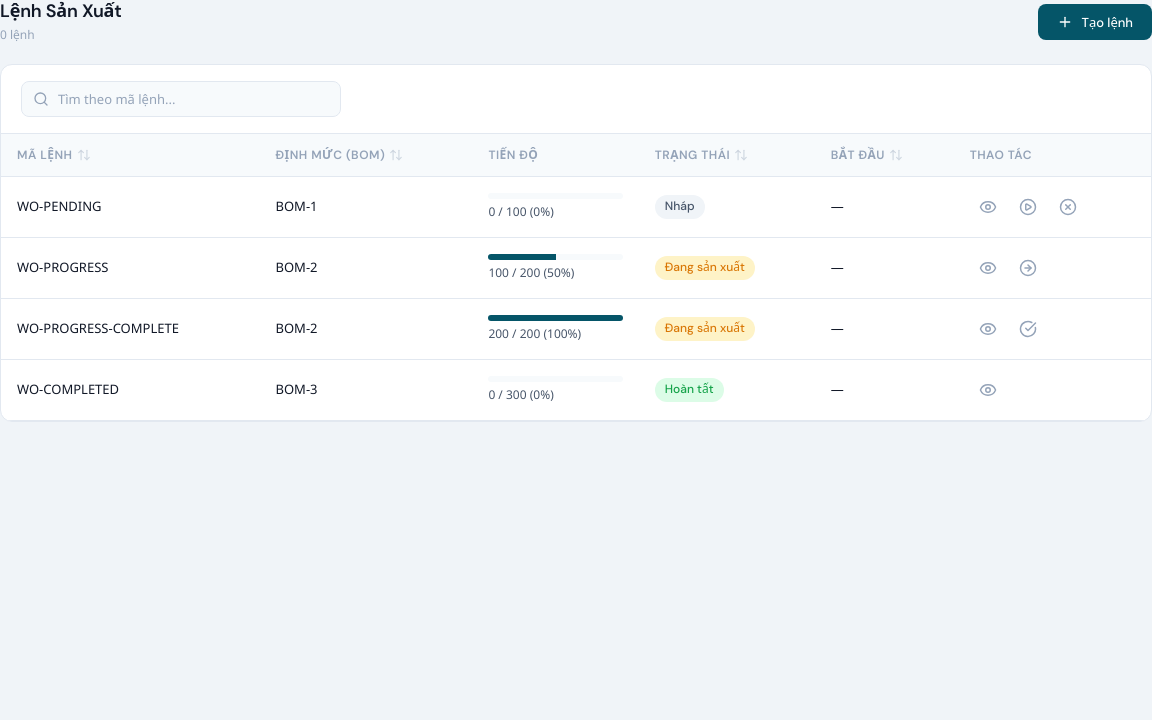
WorkOrderList › handles approve action
The width and height of the screenshot is (1152, 720).
Expected: the text "WO-PENDING" is shown, [1,176,260,238]
Click the button named "phê duyệt" at (1028, 207), box [1010,189,1046,225]
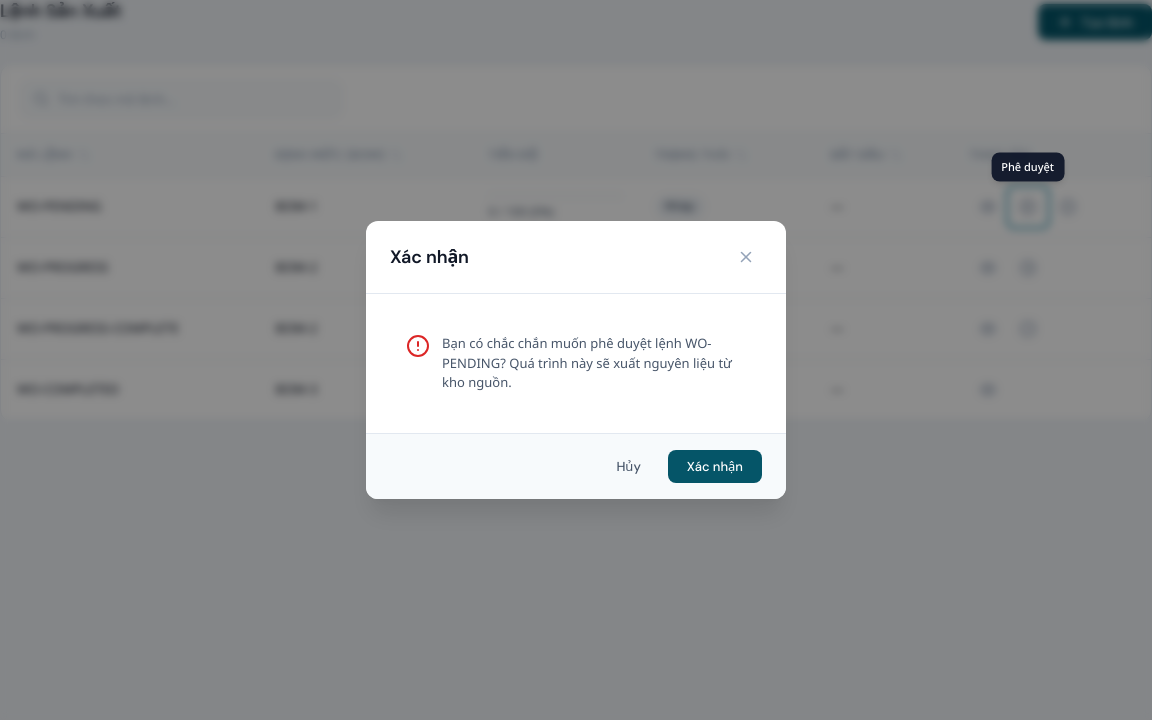
Click the button "Xác nhận" at (715, 466), box [668,450,762,483]
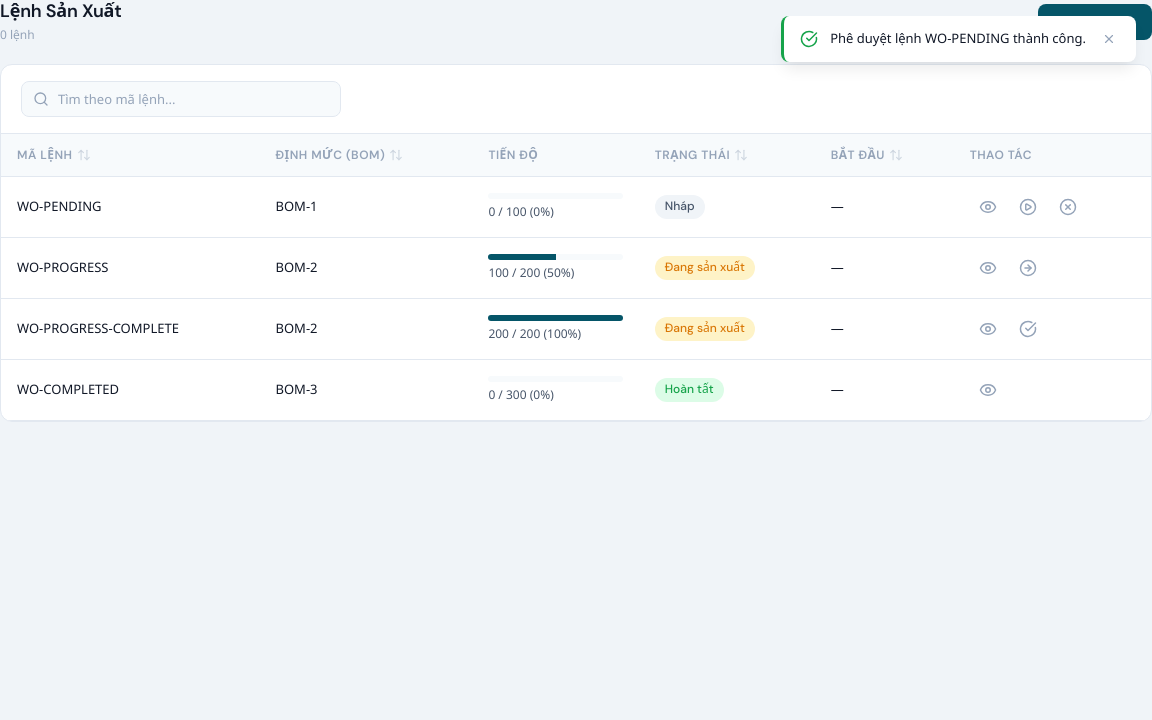
Now the text "Phê duyệt lệnh WO-PENDING thành công." is shown, box [830,29,1086,49]
